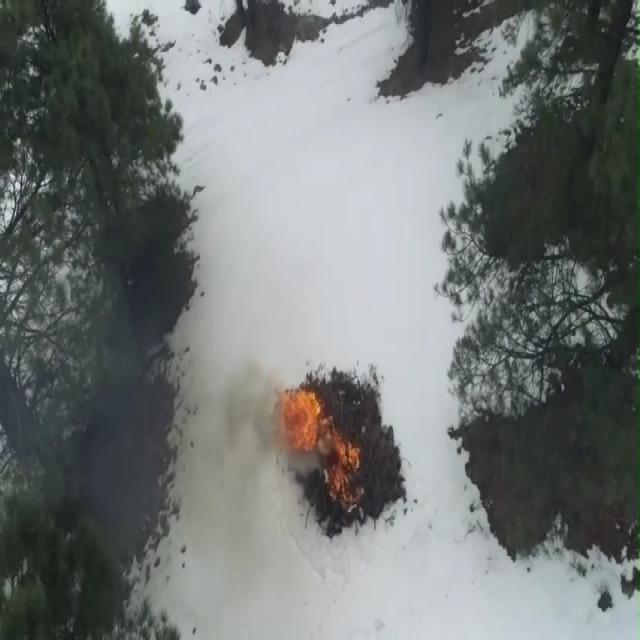Fire: (280, 390, 320, 448), (330, 436, 360, 492)
Smoke: (227, 364, 283, 451)
